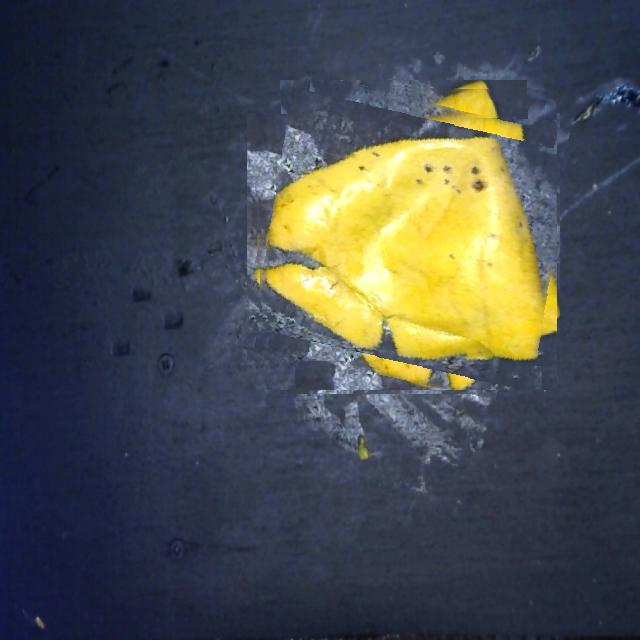biodegradable: (250, 84, 557, 390)
